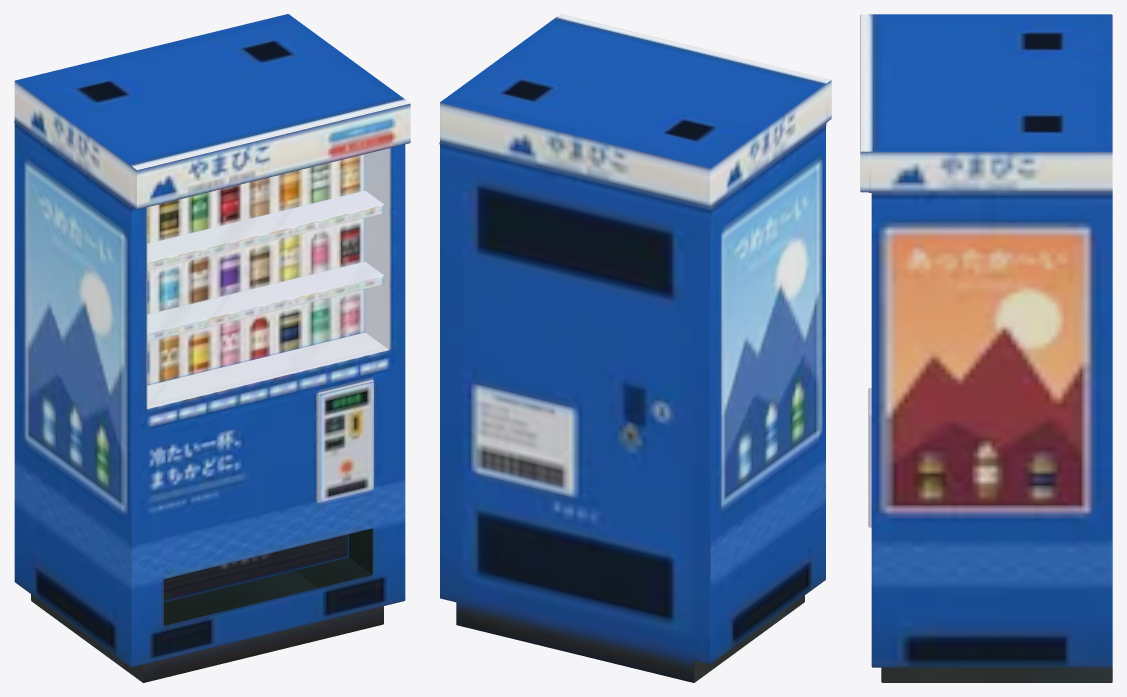
File: vending_blue.glb
3 renders of one model, left to right at view 1: azimuth 30°, elevation 25°; view 2: azimuth 150°, elevation 25°; view 3: azimuth 270°, elevation 25°, orthographic. The views are drawn at different scales.
Parts seen in each view (by area): view 1: SM_Vending_Machine_Blue; view 2: SM_Vending_Machine_Blue; view 3: SM_Vending_Machine_Blue.
Boxes of the visible parts, box(x1,y1,x2,y2) form: SM_Vending_Machine_Blue: box(14, 14, 410, 682); SM_Vending_Machine_Blue: box(439, 14, 831, 682); SM_Vending_Machine_Blue: box(860, 14, 1112, 682).
Size of the model in its own units: 1 by 1.83 by 0.775.
2 materials, 2 textured.
